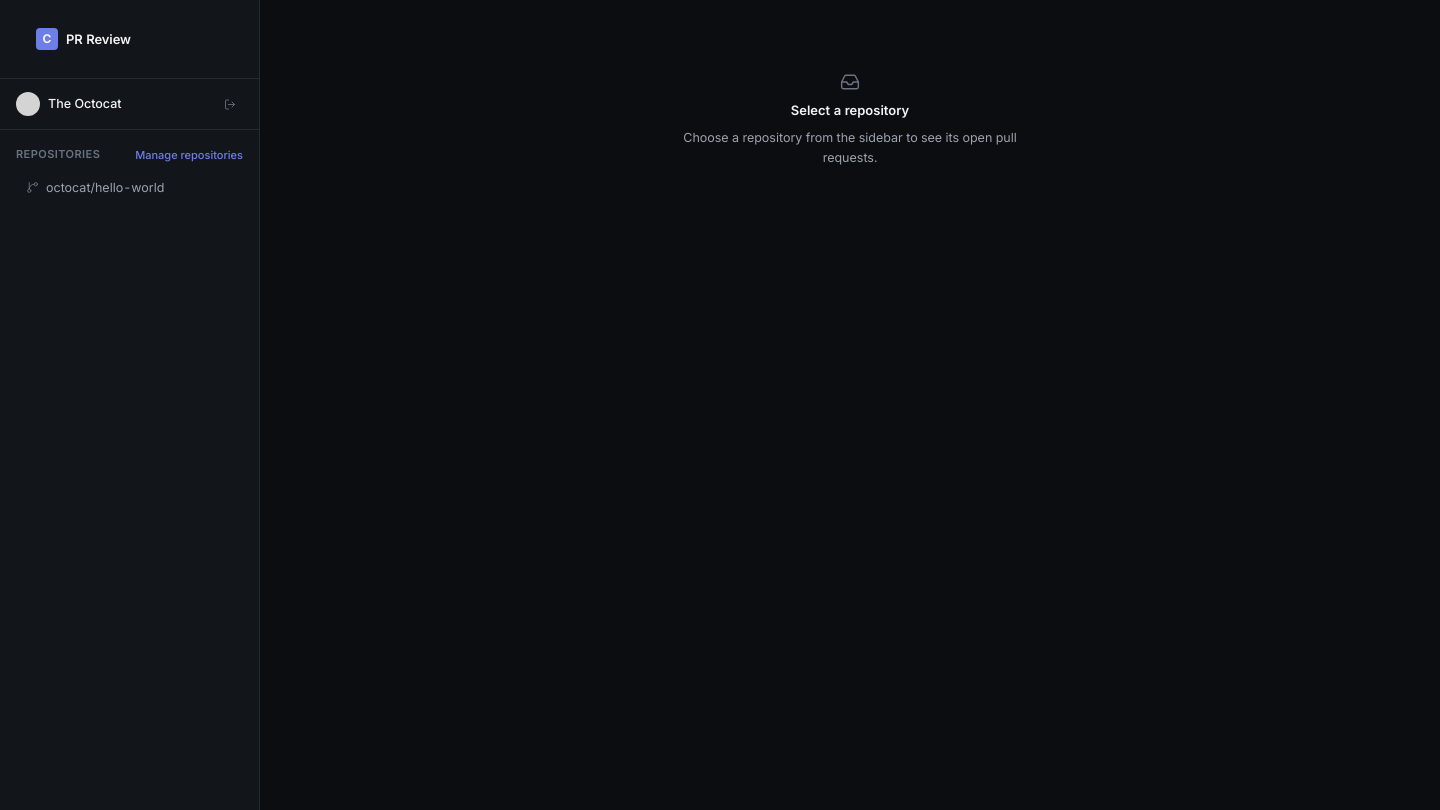
App — repository selection (Milestone 7A) › reopens the selector via 'Manage repositories' once a selection already exists
Click the button "Manage repositories".
click(189, 154)  # box x1=135 y1=148 x2=243 y2=162
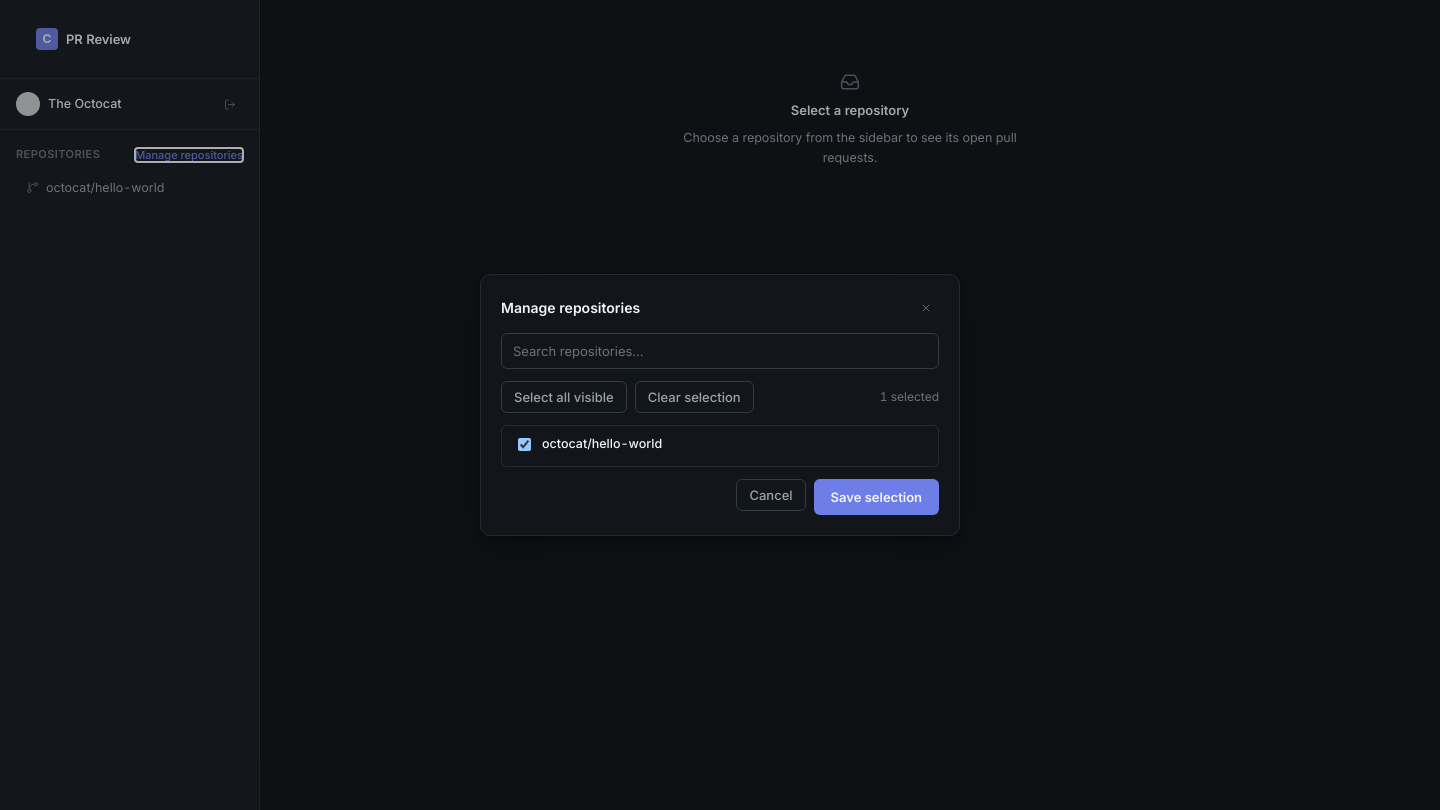
Check: the dialog "Manage repositories" is shown, box x1=480 y1=274 x2=960 y2=536
